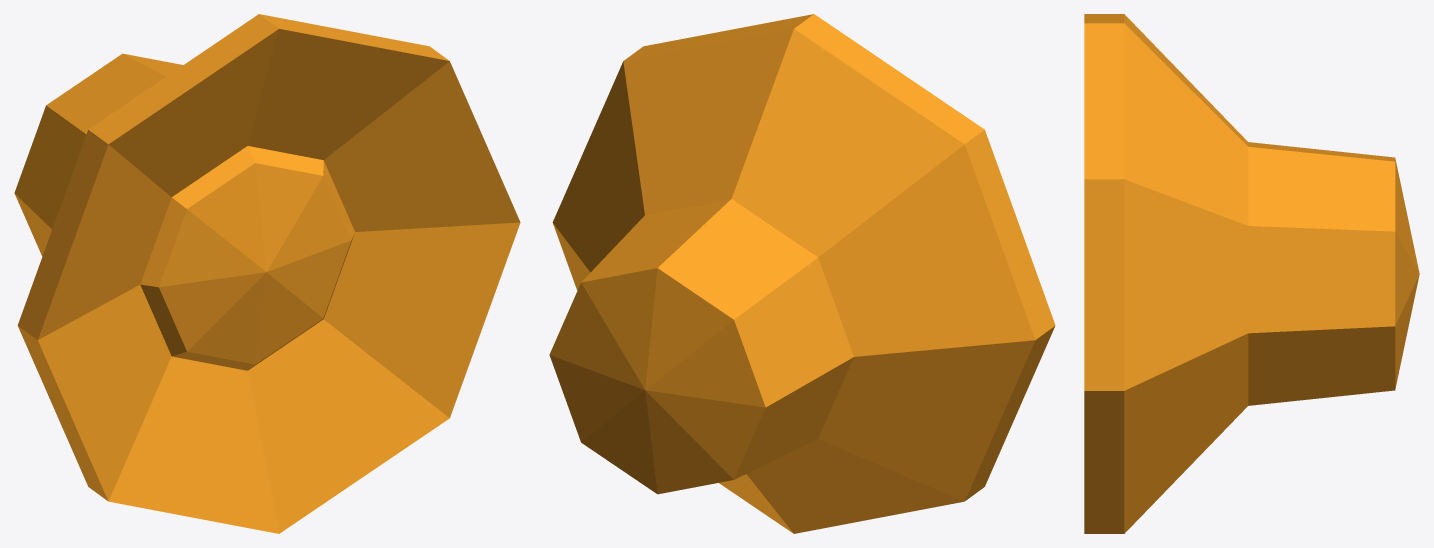
Rendered from SM_Icon_Audio_01.fbx.
3 views of the same model, side by side, from view 1: azimuth 30°, elevation 25°; view 2: azimuth 150°, elevation 25°; view 3: azimuth 270°, elevation 25° (orthographic).
Visible parts, largest first — view 1: SM_Icon_Audio_01; view 2: SM_Icon_Audio_01; view 3: SM_Icon_Audio_01.
Boxes of the visible parts, x1,y1,x2,y2 form: SM_Icon_Audio_01: (14, 14, 520, 533); SM_Icon_Audio_01: (549, 14, 1055, 533); SM_Icon_Audio_01: (1084, 14, 1419, 533).
Bounding box in the file's own units: 59.44 × 59.44 × 36.03.
